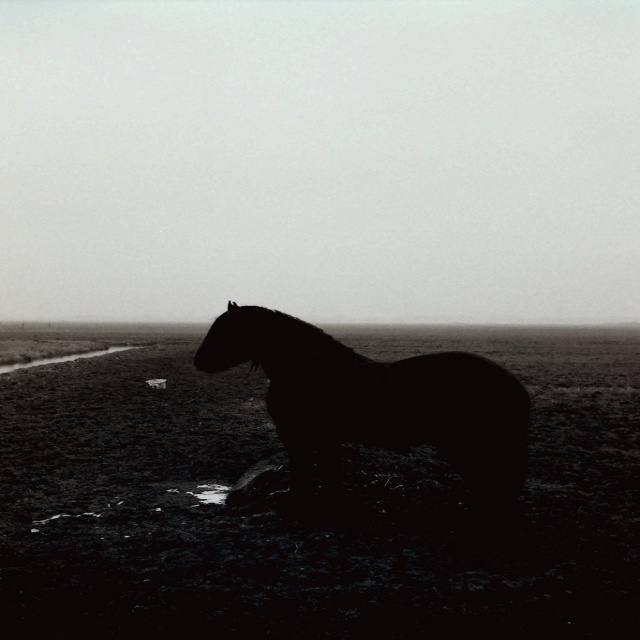Horse: (195, 298, 536, 516)
